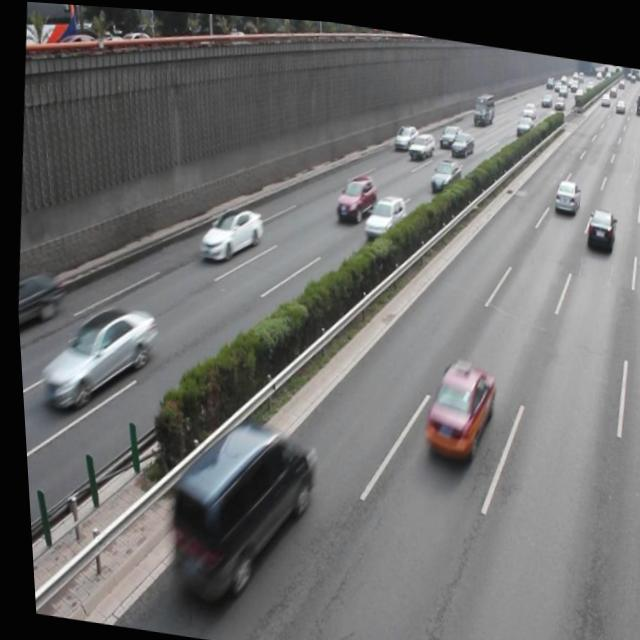car: (30, 290, 158, 419), (412, 348, 494, 458), (193, 196, 262, 266), (12, 258, 62, 327), (329, 165, 376, 221), (357, 186, 406, 233), (580, 197, 614, 245)
truck: (153, 408, 316, 601)
